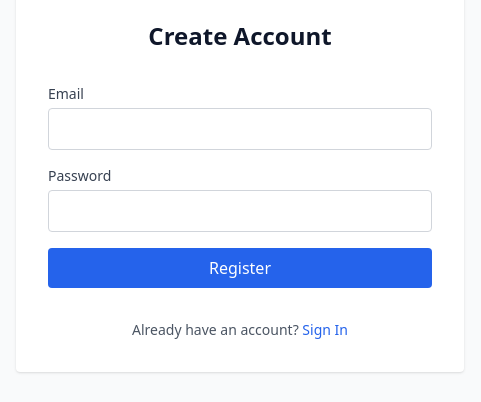
Scenario: RegisterPage enforces 12-character password minimum
Type "user@example.com" into the field labelled "Email" at (240, 129), box x1=48 y1=108 x2=432 y2=150
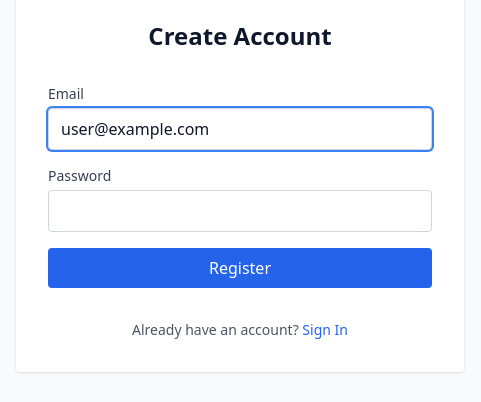
Type "short" into the password field labelled "Password" at (240, 211), box x1=48 y1=190 x2=432 y2=232
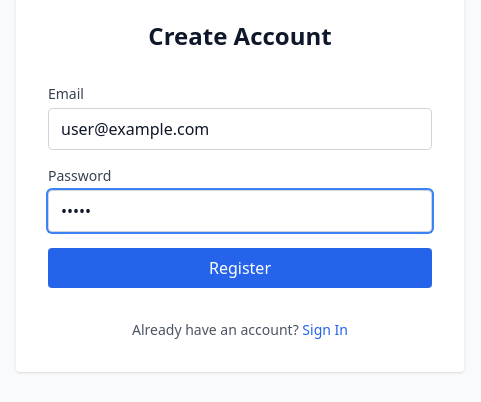
Click the button "Register" at (240, 268), box x1=48 y1=248 x2=432 y2=288
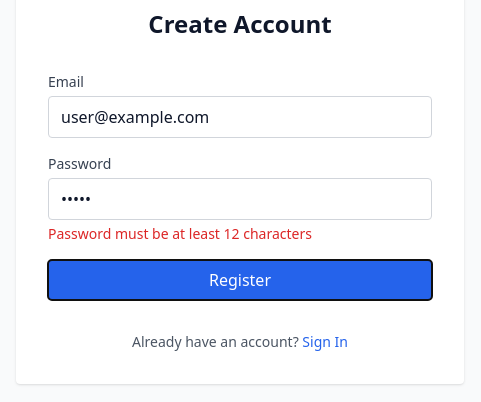
Result: the text "Password must be at least 12 characters" is shown at x1=48 y1=224 x2=312 y2=243
